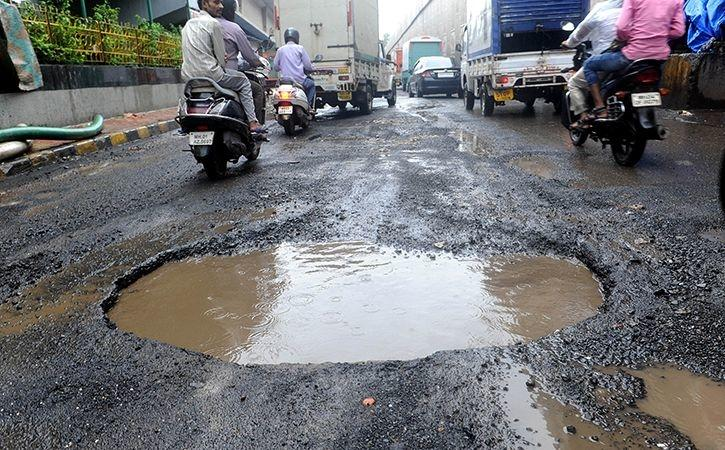pothole: (95, 187, 613, 367), (142, 187, 613, 367)
